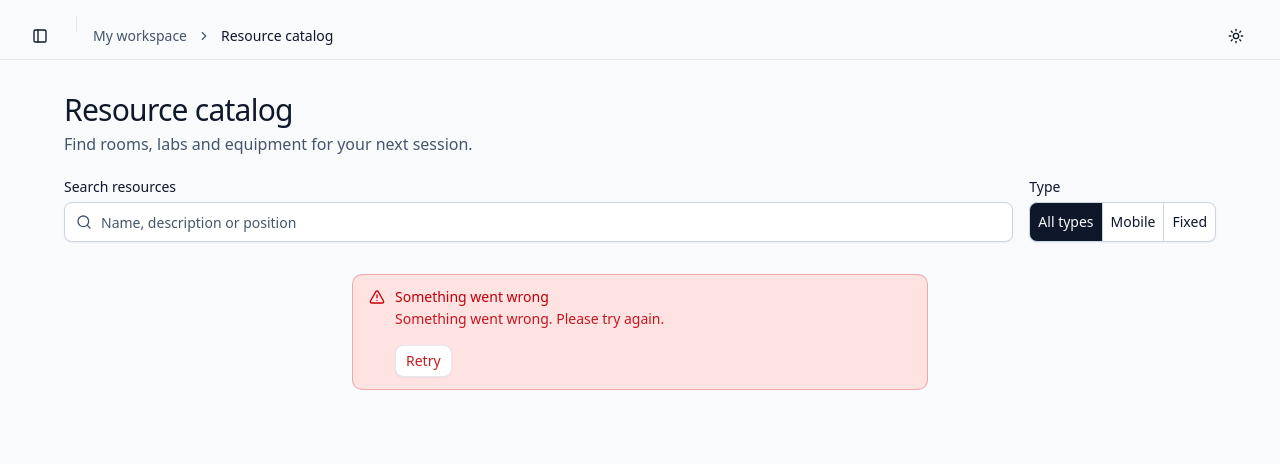
ResourceCatalogPage › shows the error state and recovers on Retry
Expected: the message shows "Something went wrong. Please try again.", [395, 309, 664, 328]
Click the button "Retry".
click(423, 361)  # box [395, 345, 452, 377]
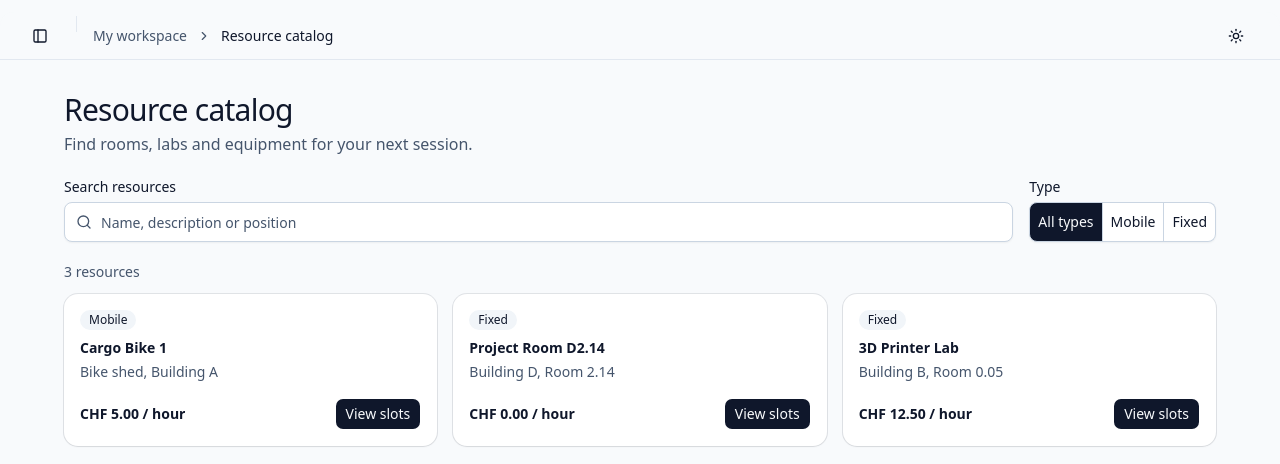
Expected: the link with aria-label "Cargo Bike 1" is shown, [334, 398, 421, 430]
